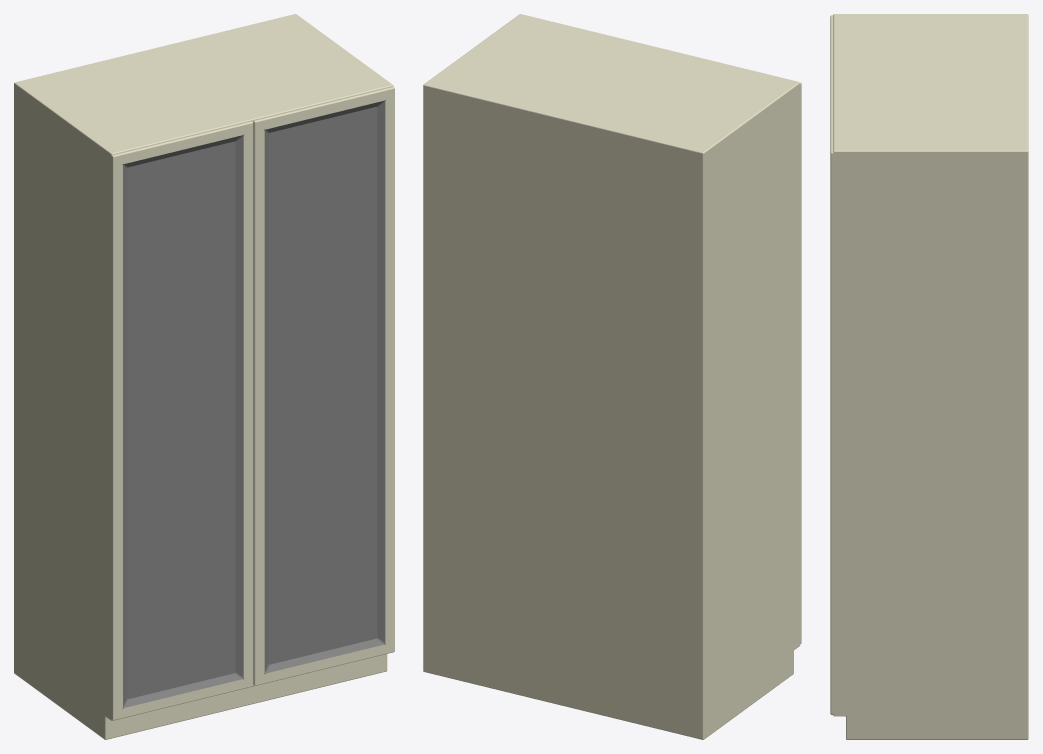
Rendered from Wardrobe.fbx.
3 renders of one model, left to right at view 1: azimuth 30°, elevation 25°; view 2: azimuth 150°, elevation 25°; view 3: azimuth 270°, elevation 25°, orthographic.
Visible parts, largest first — view 1: Cube.001, Cube; view 2: Cube, Cube.001; view 3: Cube, Cube.001.
Part boxes in pixels (x1,y1,x2,y2): Cube.001: [111, 86, 394, 720]; Cube: [14, 14, 393, 739]; Cube: [423, 14, 800, 739]; Cube.001: [800, 82, 801, 643]; Cube: [833, 14, 1028, 739]; Cube.001: [830, 15, 834, 714].
Size of the model in its own units: 100 by 200 by 60.9.
